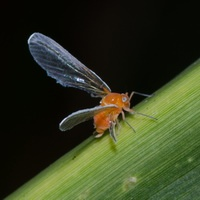insect: (28, 33, 155, 141)
